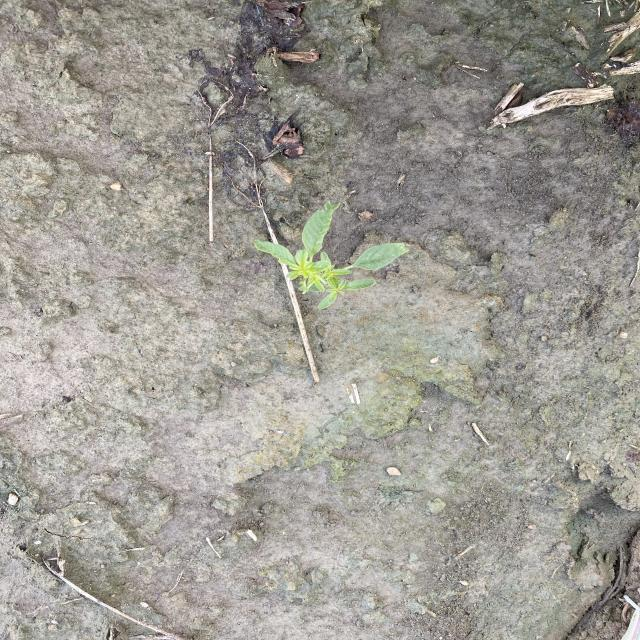Waterhemp: (252, 199, 414, 311)
